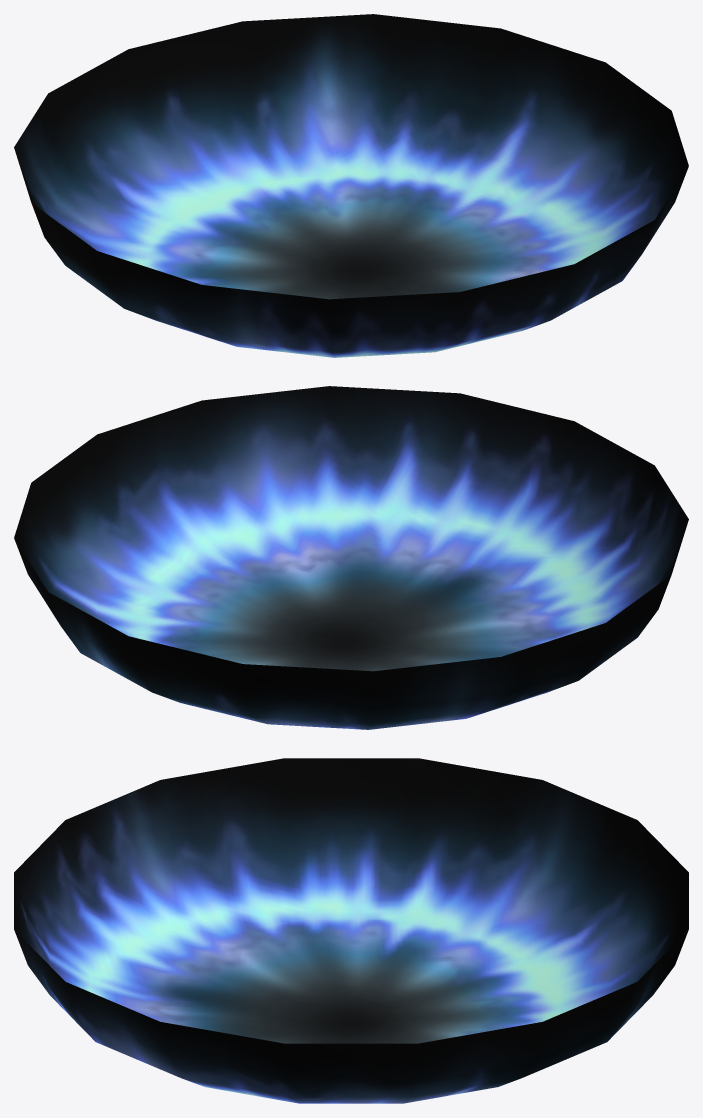
The model's file is fbx_skill_x_102_staff_skill_2.FBX.
3 views of the same model, one above another, from view 1: azimuth 30°, elevation 25°; view 2: azimuth 150°, elevation 25°; view 3: azimuth 270°, elevation 25° (orthographic).
Parts seen in each view (by area): view 1: Sphere001; view 2: Sphere001; view 3: Sphere001.
Part boxes in pixels (x1,y1,x2,y2): Sphere001: (14,14,688,357); Sphere001: (14,386,688,729); Sphere001: (14,758,688,1103).
Bounding box in the file's own units: 305 × 305 × 58.83.
1 material, 1 textured.
